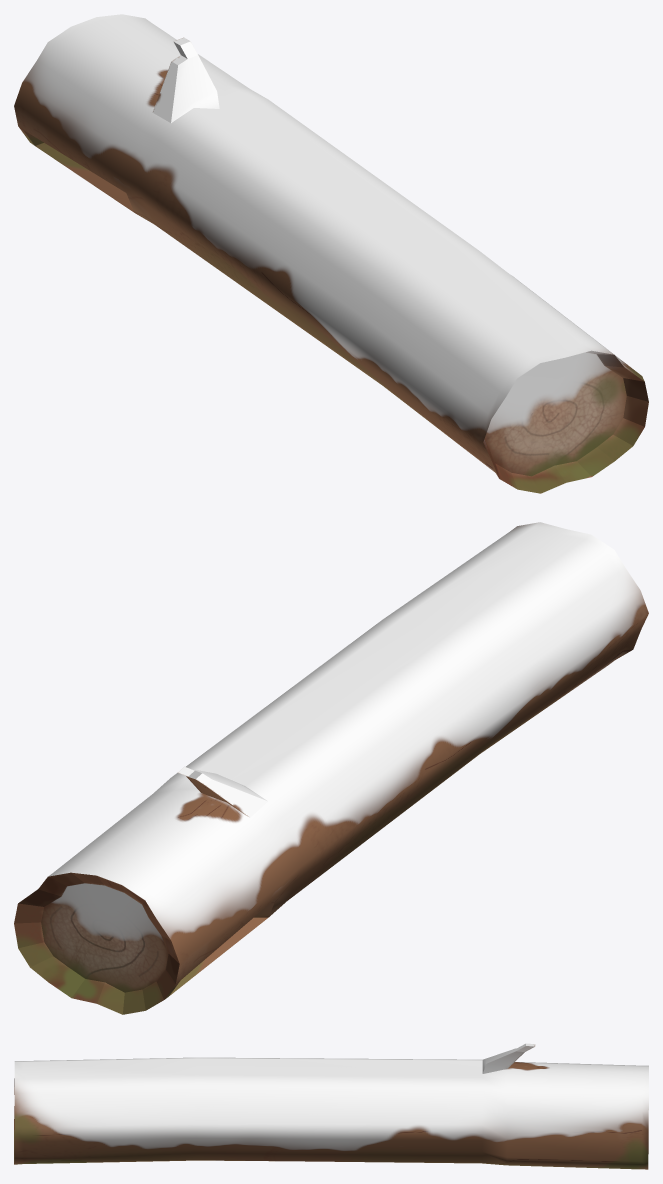
The model's file is log.fbx.
The picture shows the model from 3 angles, top to bottom: view 1: azimuth 30°, elevation 25°; view 2: azimuth 150°, elevation 25°; view 3: azimuth 270°, elevation 25°; orthographic projection. The views are drawn at different scales.
Parts seen in each view (by area): view 1: log_low; view 2: log_low; view 3: log_low.
Boxes of the visible parts, x1,y1,x2,y2 form: log_low: (14,14,648,493); log_low: (14,522,648,1014); log_low: (14,1043,648,1169).
Bounding box in the file's own units: 15.12 × 15.26 × 74.24.
